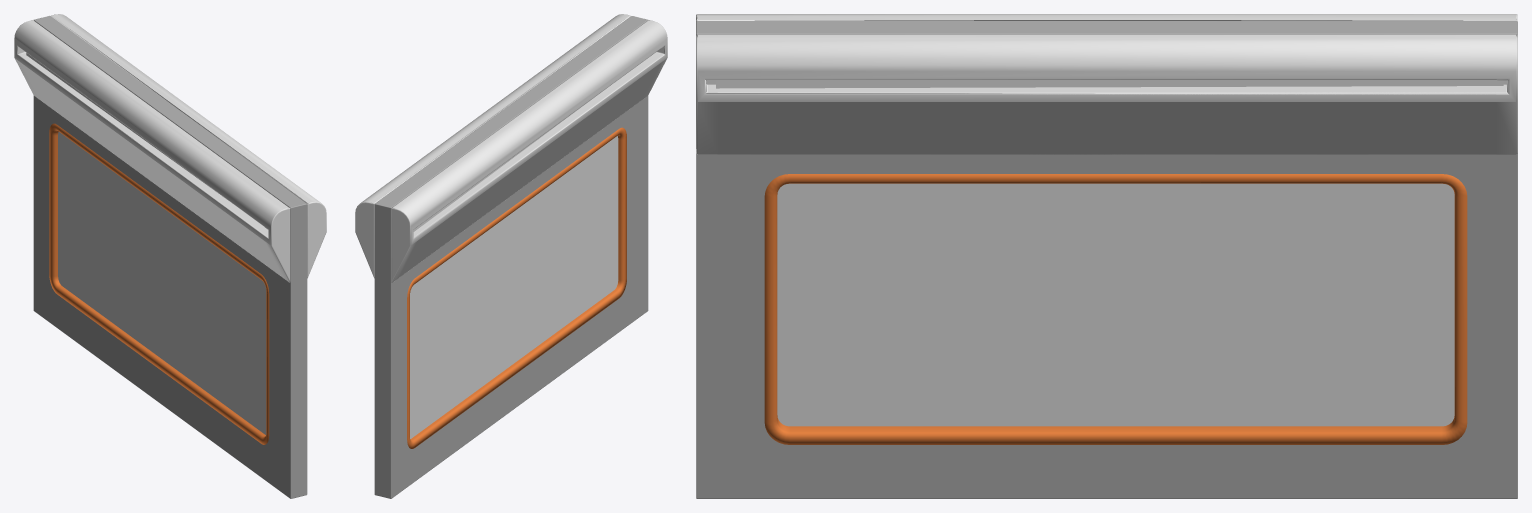
The model's file is Wall_BigWindow.fbx.
The picture shows the model from 3 angles, left to right: view 1: azimuth 30°, elevation 25°; view 2: azimuth 150°, elevation 25°; view 3: azimuth 270°, elevation 25°; orthographic projection. The views are drawn at different scales.
Parts seen in each view (by area): view 1: Wall_Base, Glass; view 2: Wall_Base, Glass; view 3: Wall_Base, Glass.
Boxes of the visible parts, x1,y1,x2,y2 form: Wall_Base: (14,14,326,498); Glass: (58,132,266,434); Wall_Base: (355,14,667,498); Glass: (410,136,618,438); Wall_Base: (696,14,1517,498); Glass: (777,183,1454,426).
Bounding box in the file's own units: 1 × 5 × 8.
